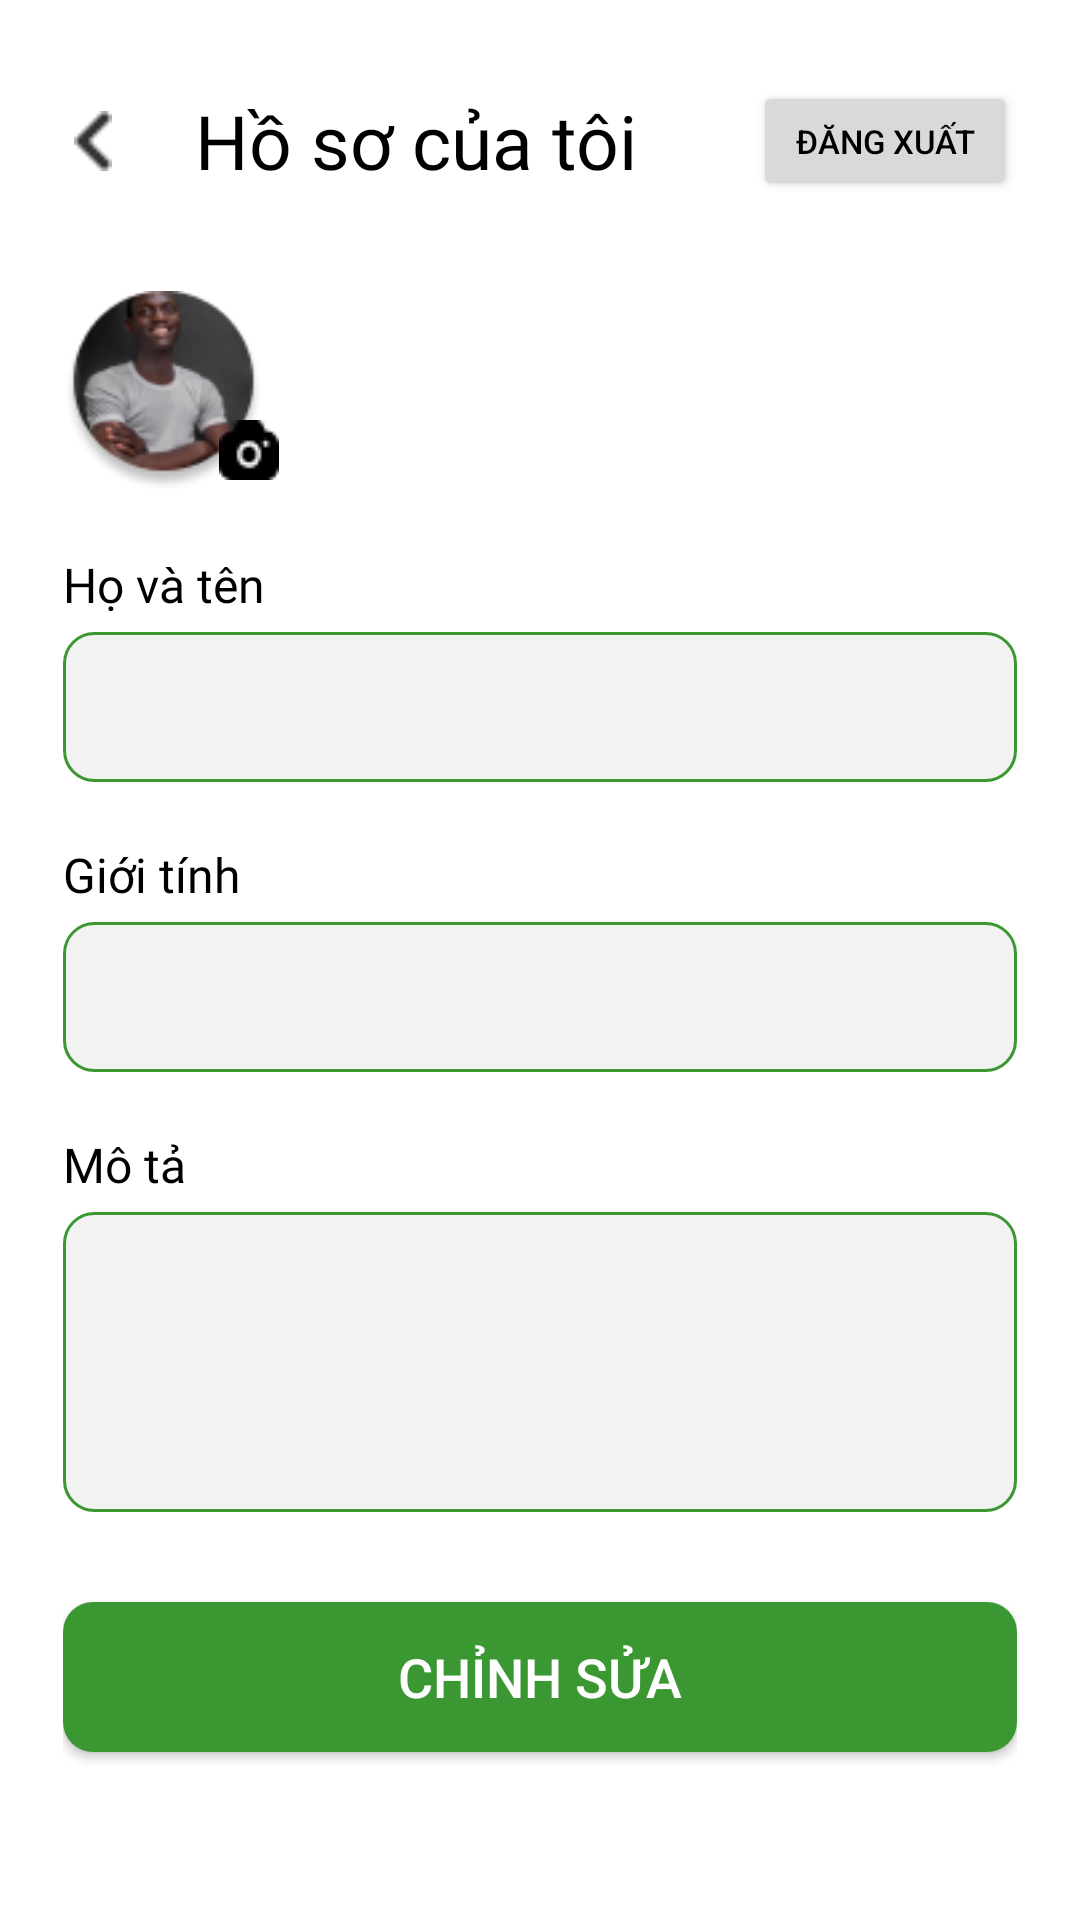

Named icons in this screenshot (1080*1920) and their centers, (x,y):
back: (93,141)
camera: (249,450)
